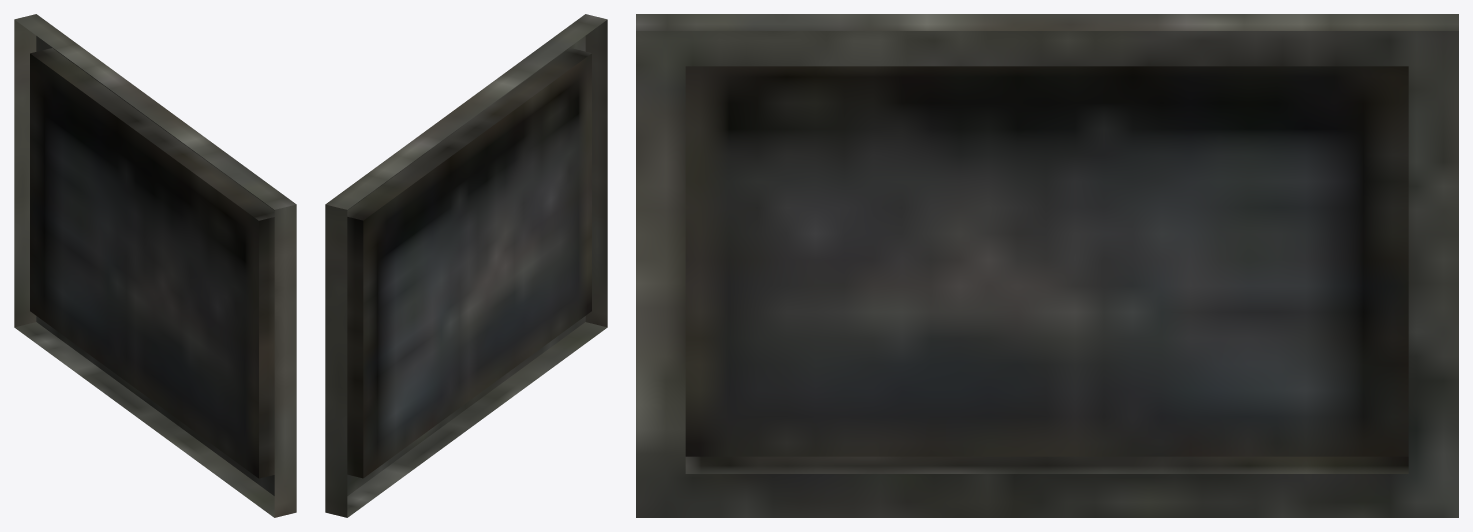
The model's file is SingleWindow_Ground.FBX.
3 renders of one model, left to right at view 1: azimuth 30°, elevation 25°; view 2: azimuth 150°, elevation 25°; view 3: azimuth 270°, elevation 25°, orthographic. The views are drawn at different scales.
Parts seen in each view (by area): view 1: SingleWindow_Ground; view 2: SingleWindow_Ground; view 3: SingleWindow_Ground.
Boxes of the visible parts, x1=… form: SingleWindow_Ground: x1=14, y1=14, x2=296, y2=517; SingleWindow_Ground: x1=325, y1=14, x2=607, y2=517; SingleWindow_Ground: x1=636, y1=14, x2=1458, y2=517.
Size of the model in its own units: 10 by 132 by 203.
